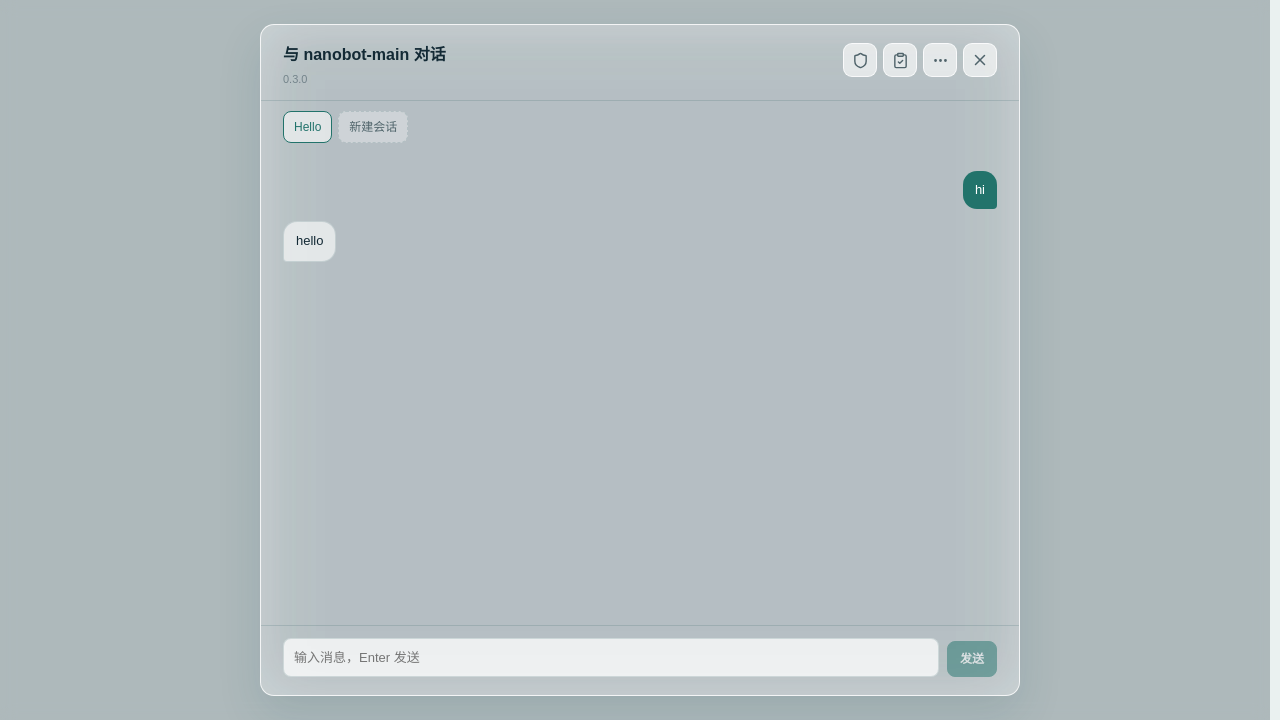
Test: ChatDrawer › uses one header menu for the current session instead of controls on every tab
Click the button named "当前会话操作".
click(940, 60)  # box 923,43 -> 957,77
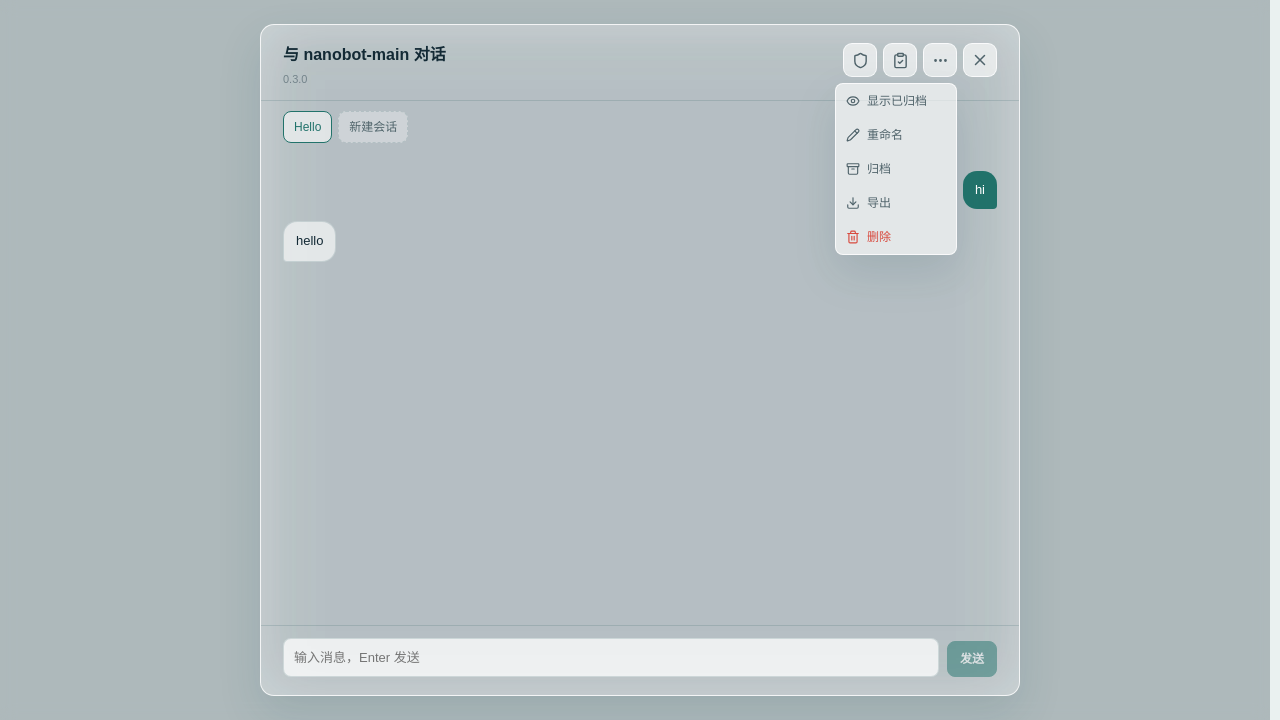
Check: the element with class "chat-header-session-menu" is shown, box 835,83 -> 957,255
